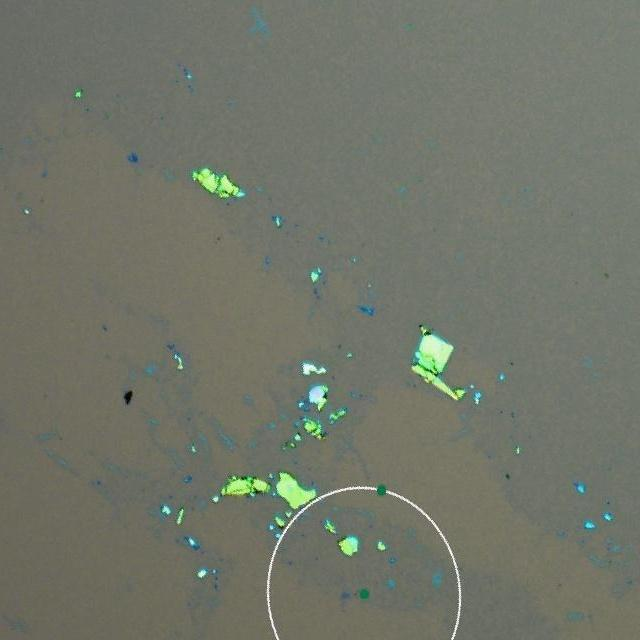monolayer-eWW4: (342, 592, 350, 600)
